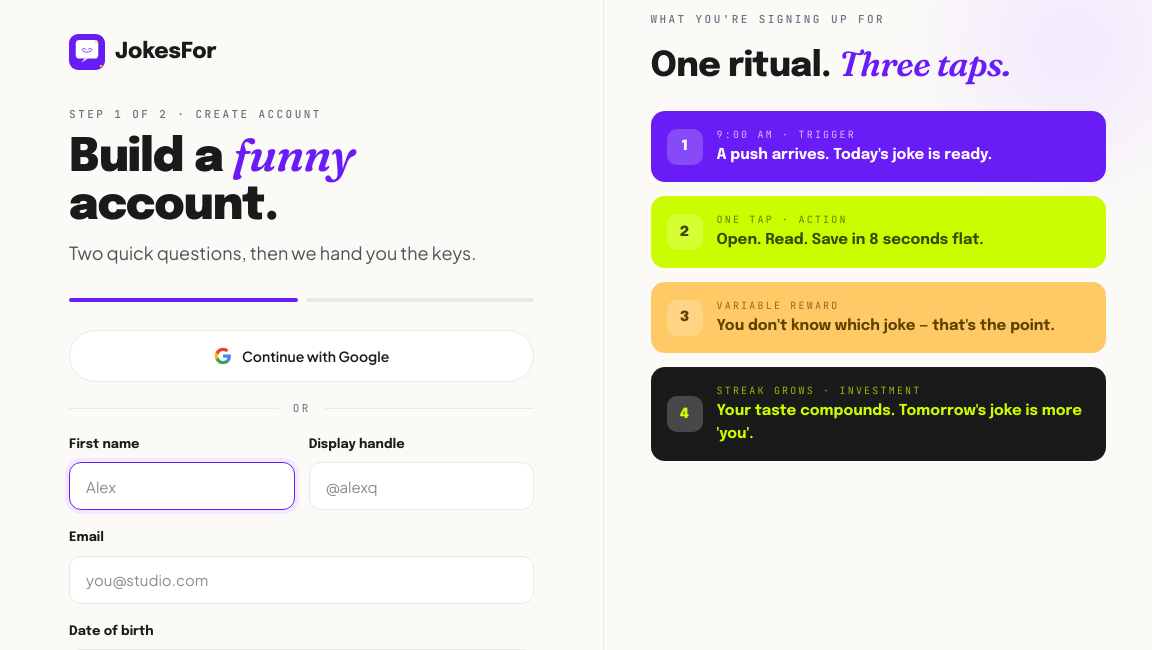
Test case: an under-13 DOB surfaces the block message and does not navigate
The image size is (1152, 650).
Type "Test" into the field with placeholder "Alex".
click(182, 486); type("Test")  # box left=69, top=462, right=295, bottom=510
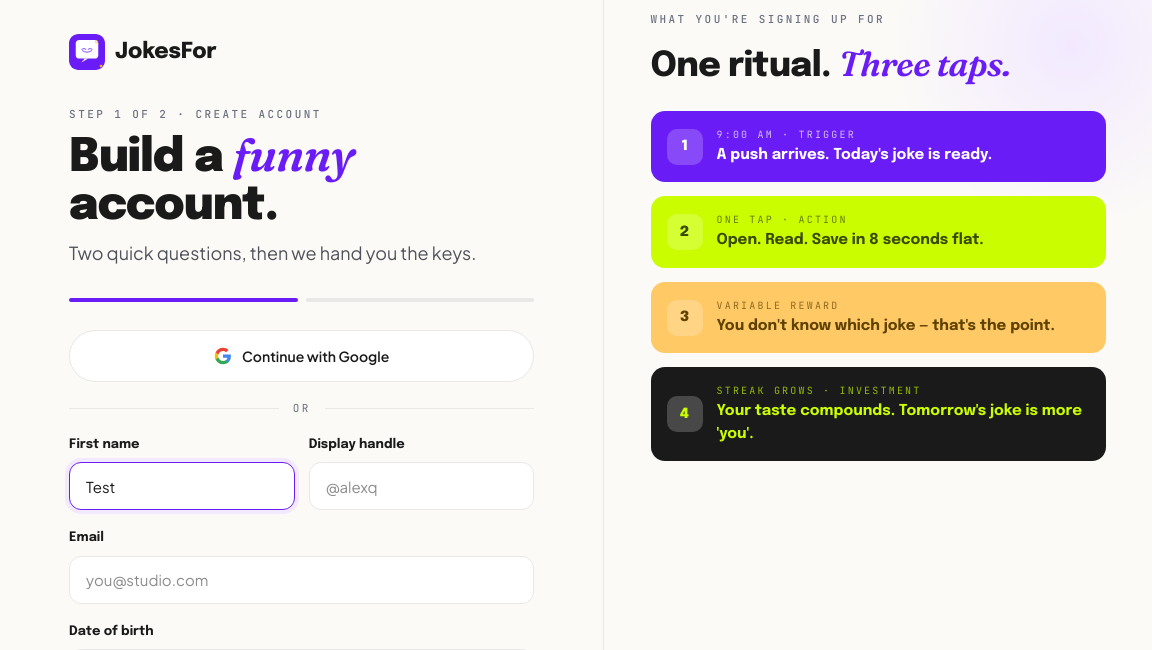
Type "a@b.com" into the field with placeholder "you@studio.com".
click(302, 580); type("a@b.com")  # box left=69, top=556, right=534, bottom=604
(page scrolled)
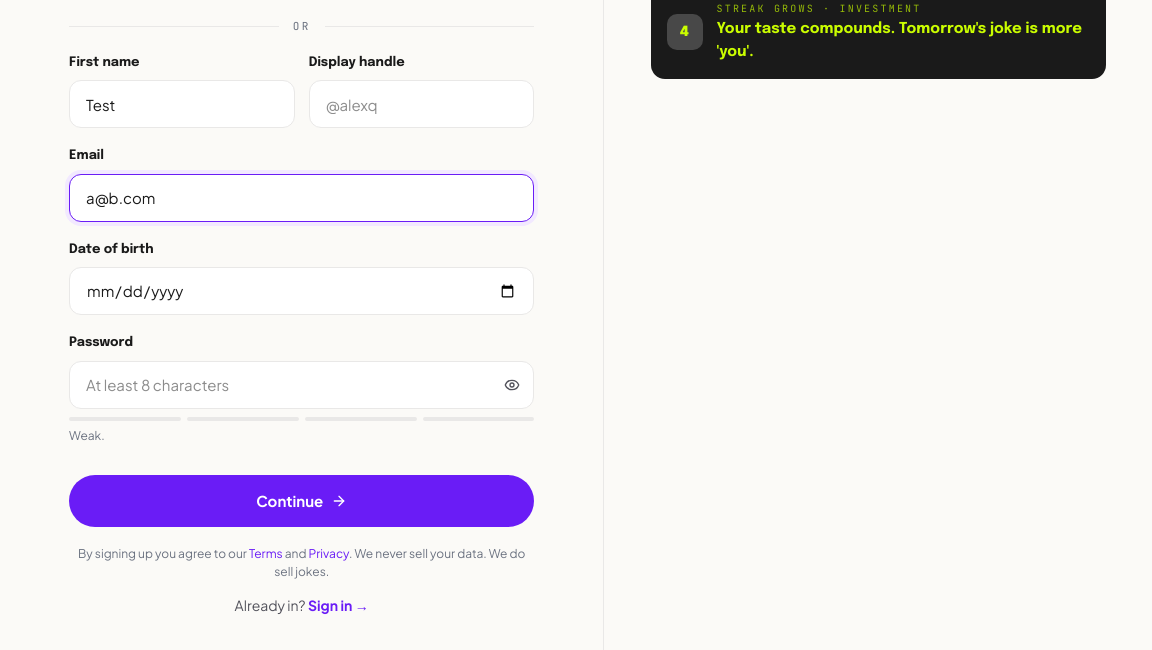
Type "password123" into the password field with placeholder "At least 8 characters".
click(302, 385); type("password123")  # box left=69, top=361, right=534, bottom=409
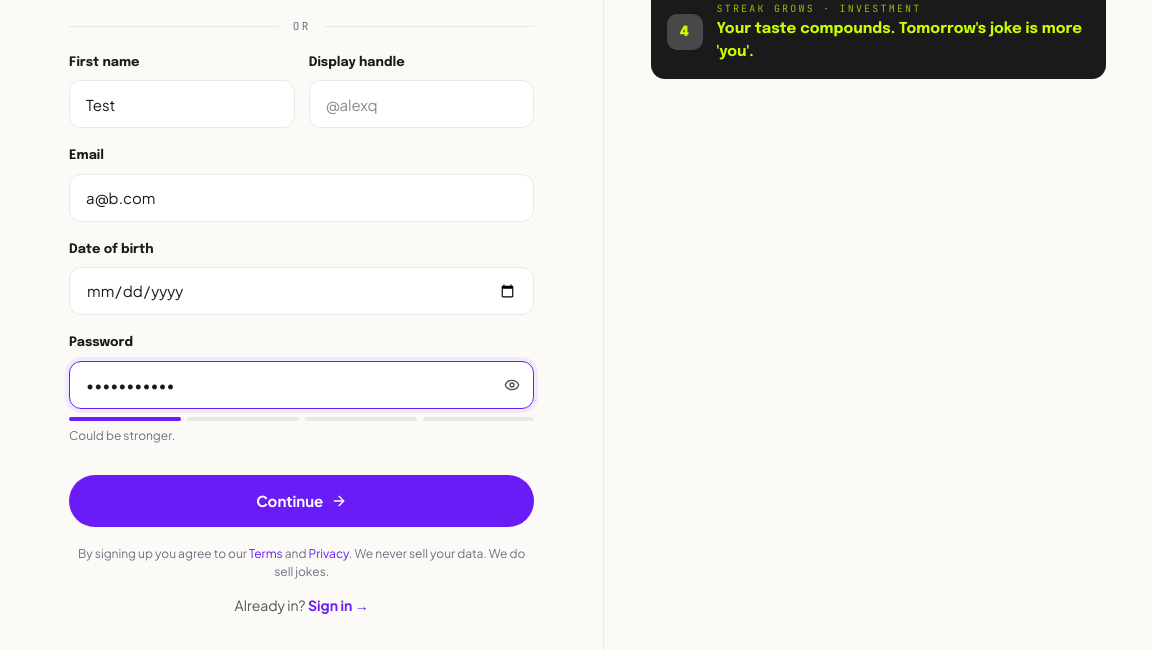
Type "2020-01-01" into the date field labelled "Date of birth".
click(302, 291); type("2020-01-01")  # box left=69, top=267, right=534, bottom=315
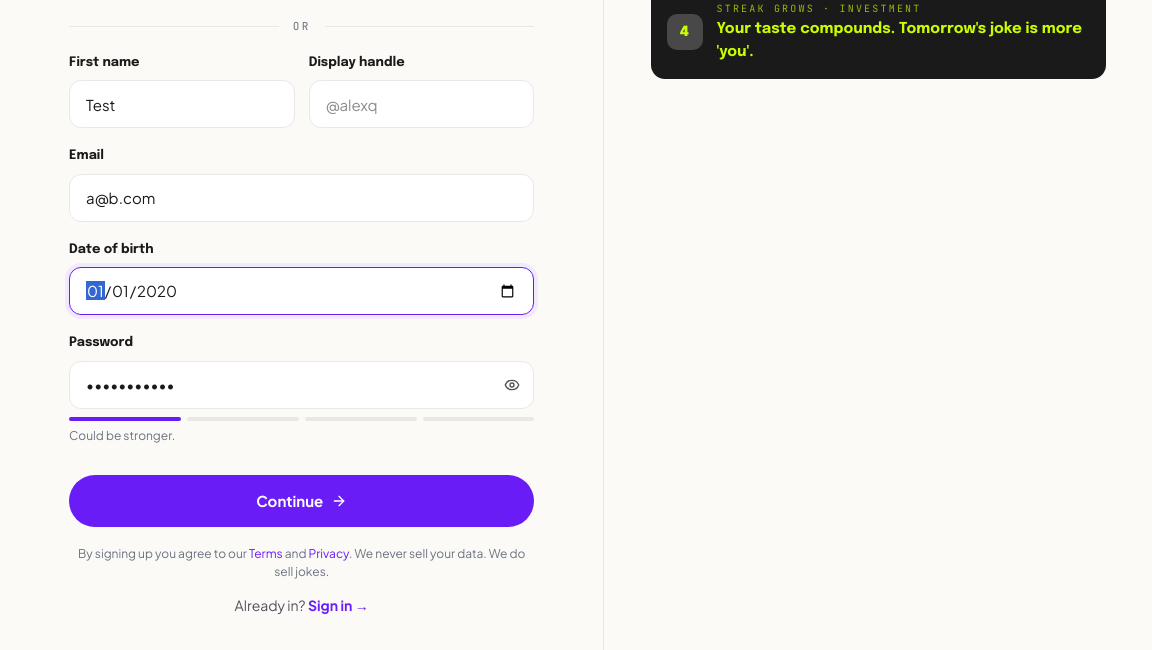
Click the button "Continue".
click(302, 501)  # box left=69, top=475, right=534, bottom=527
(page scrolled)
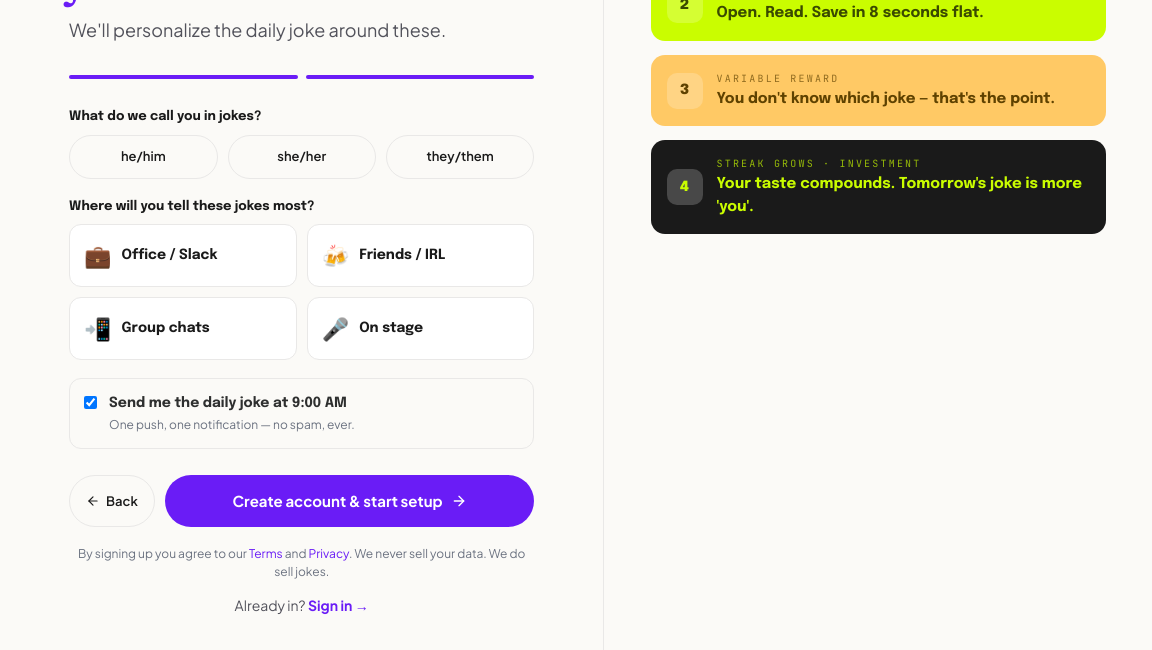
Click the button "Create account & start setup".
click(350, 501)  # box left=165, top=475, right=534, bottom=527
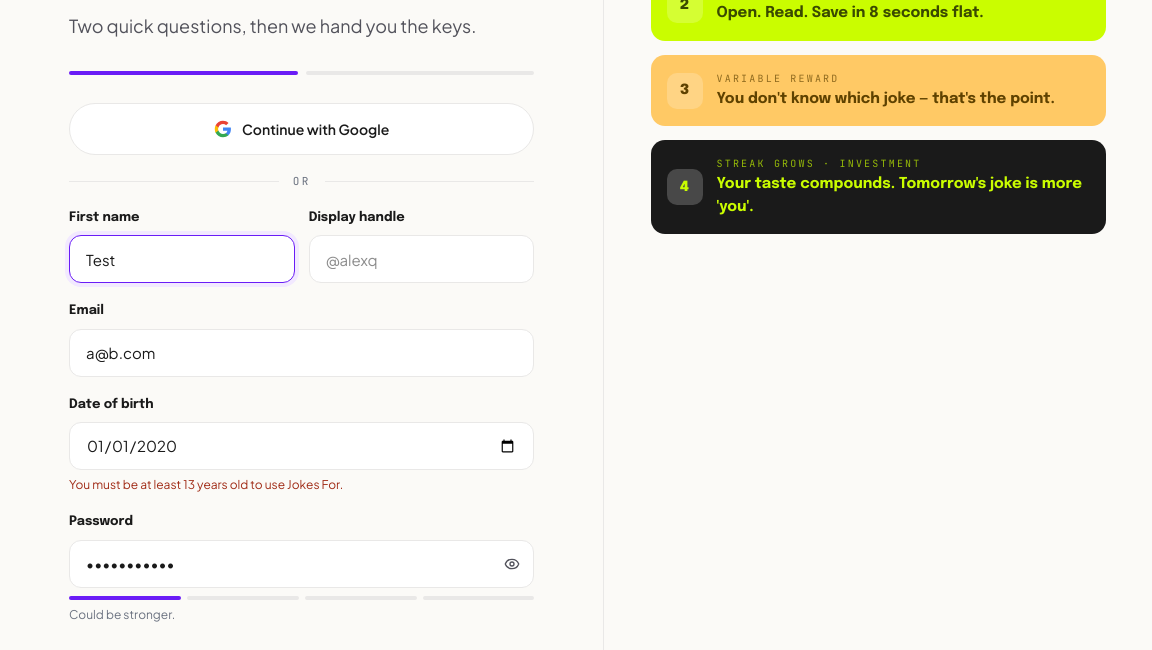
expect the text "You must be at least 13 years old to use Jokes For." is shown: met, box left=69, top=477, right=343, bottom=492
